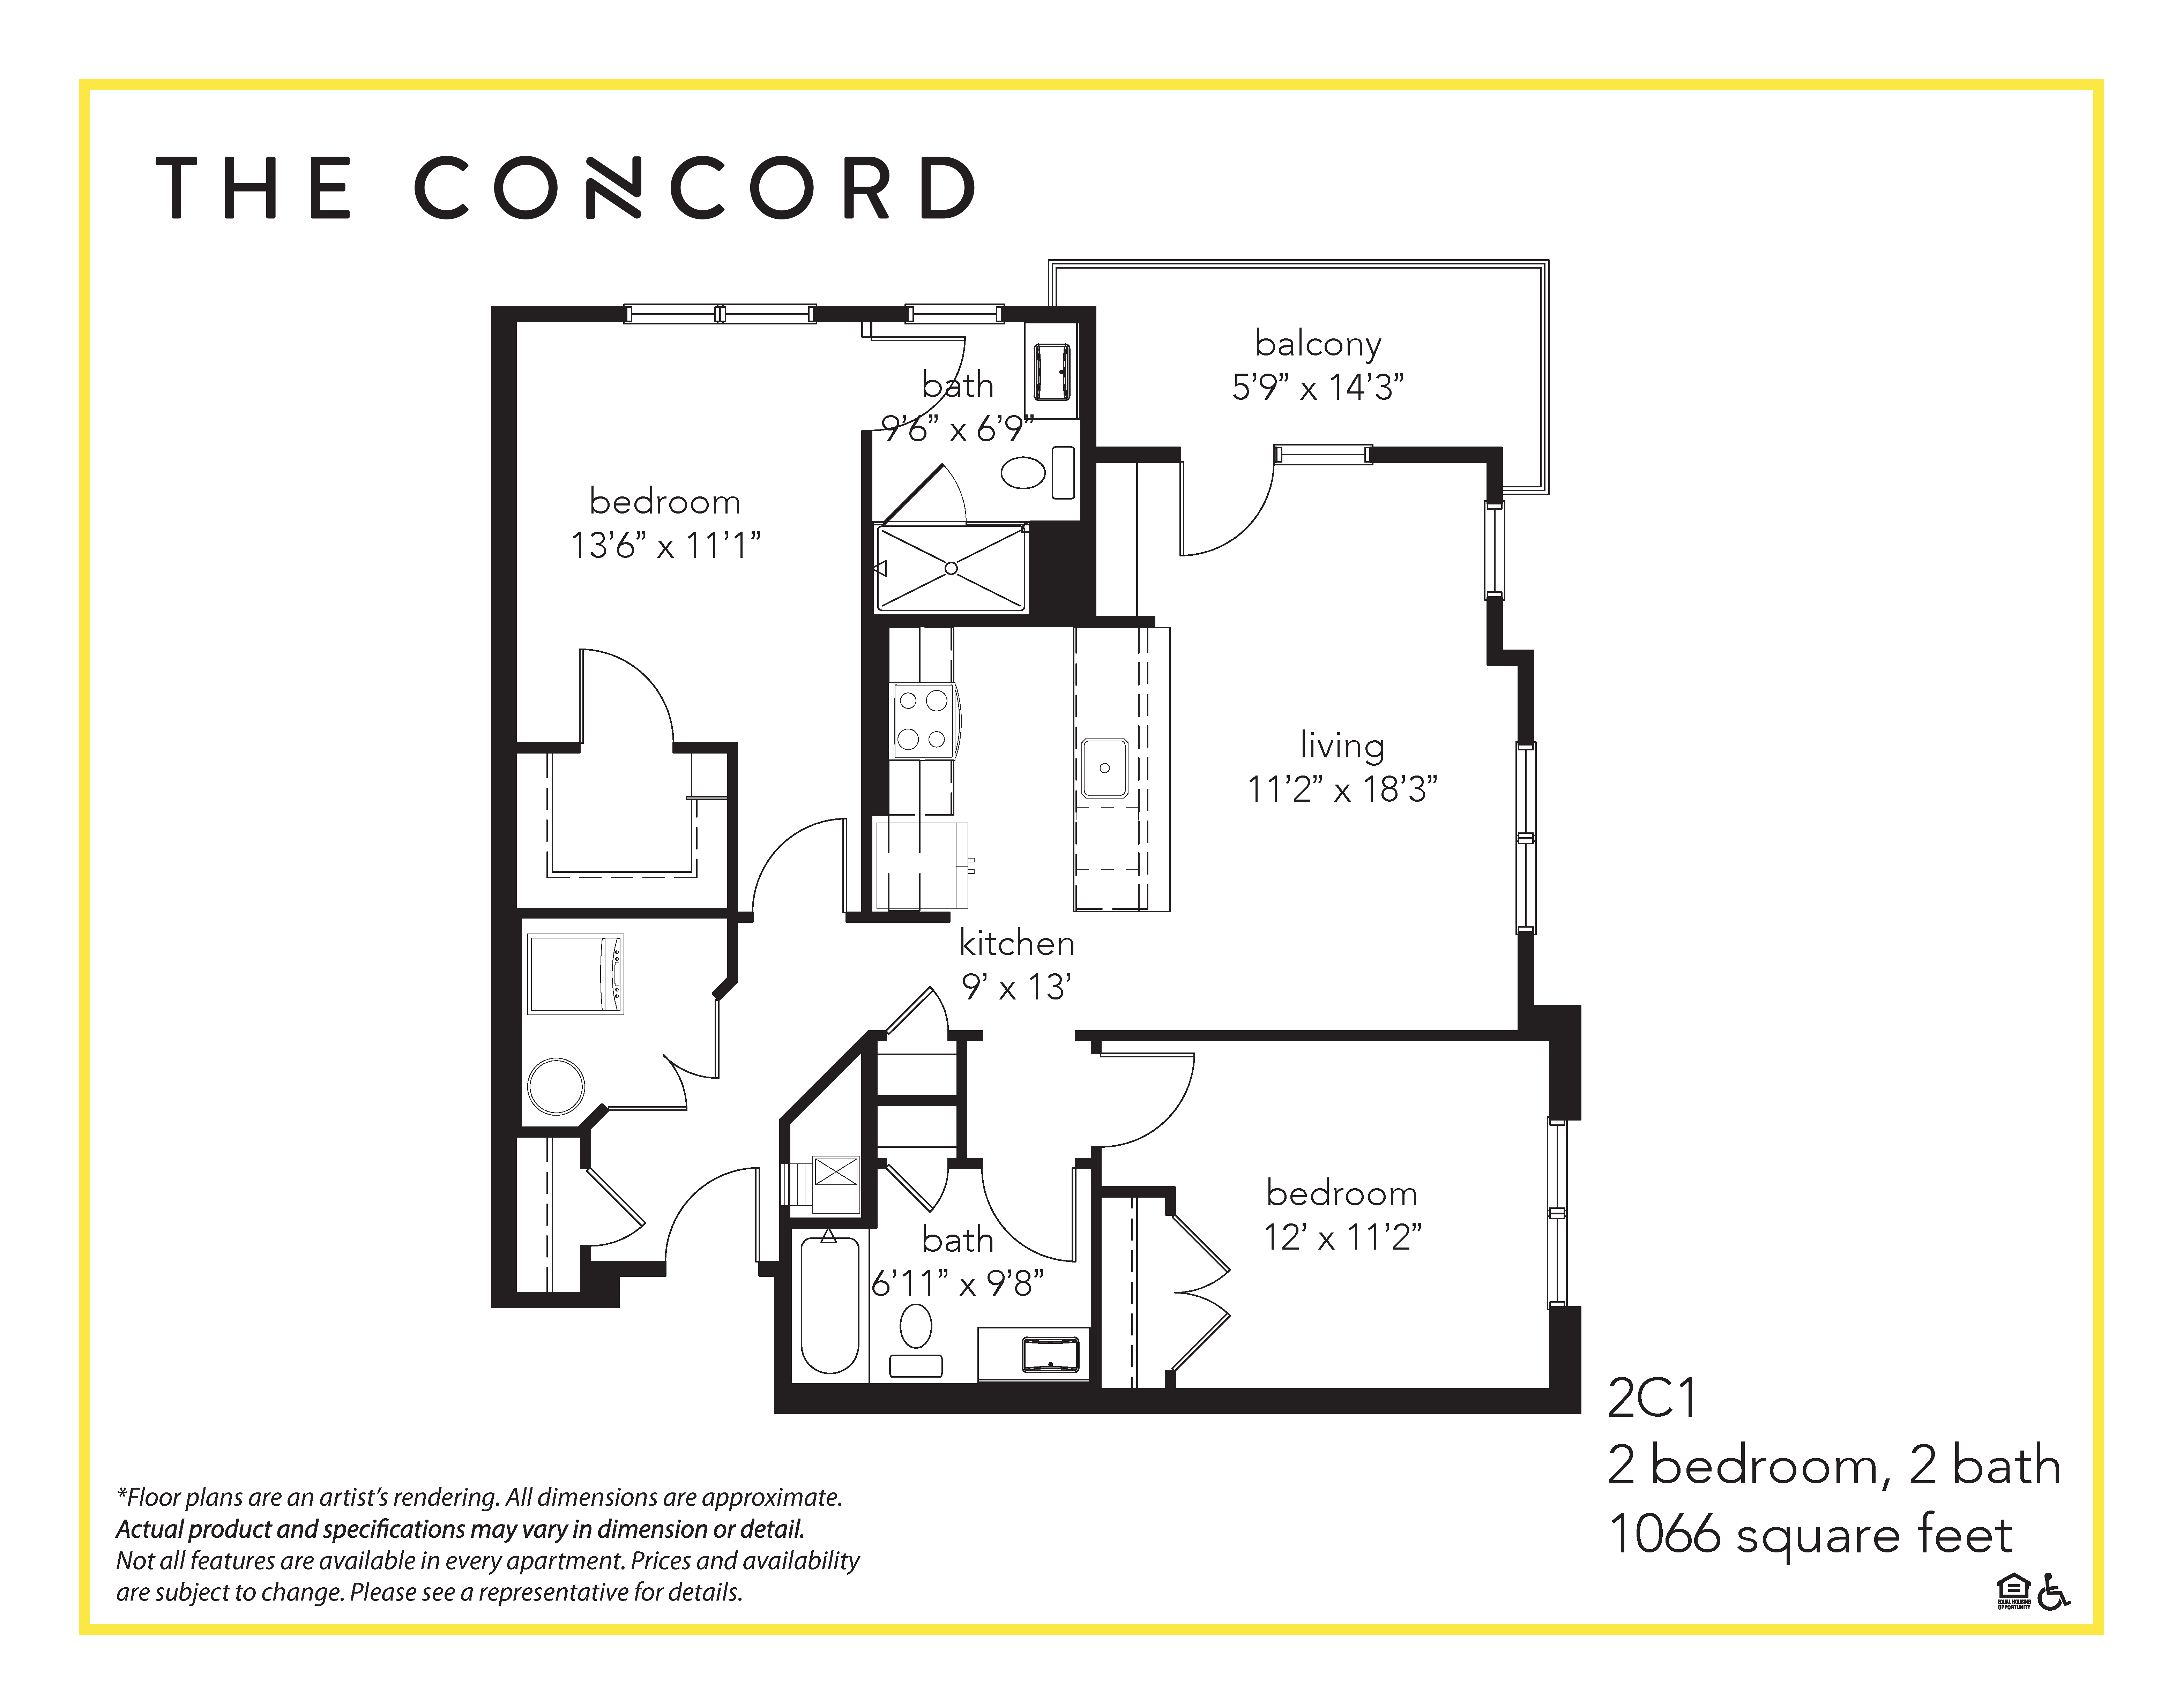window: (1543, 1116, 1581, 1311), (1511, 741, 1542, 936), (625, 299, 817, 330), (1272, 439, 1373, 468), (905, 299, 1005, 328), (1483, 500, 1510, 599)
